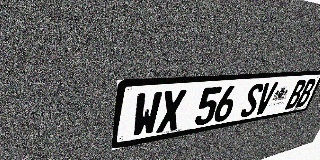5: (193, 86, 222, 126)
6: (212, 85, 240, 123)
B: (284, 80, 307, 110), (295, 79, 317, 108)
S: (239, 83, 265, 118)
V: (253, 82, 278, 115)
W: (131, 91, 163, 138)
X: (156, 89, 187, 133)
